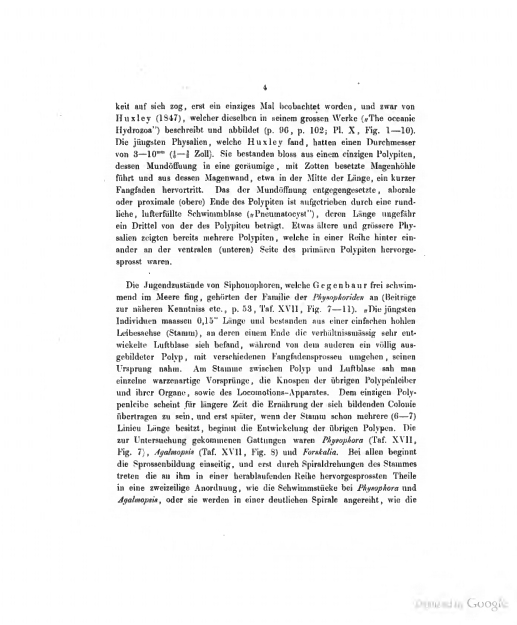MainZone: (101, 93, 428, 514)
NoiseZone: (414, 590, 517, 625)
NumberingZone_page: (254, 78, 274, 96)
